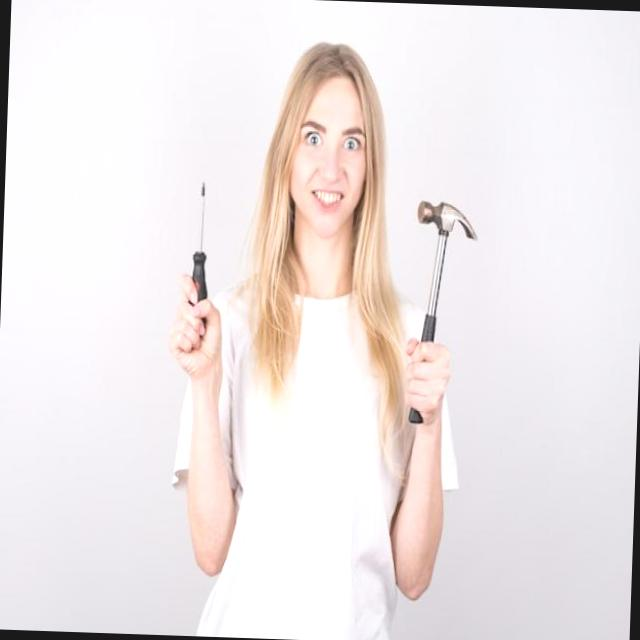hammer: (418, 201, 477, 341), (408, 408, 422, 423)
screwdriver: (191, 182, 207, 300)
